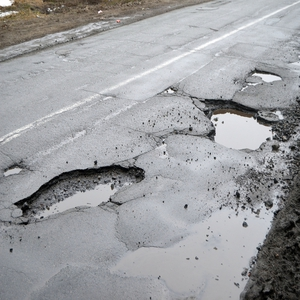pothole: (14, 162, 147, 223), (198, 96, 282, 152)
